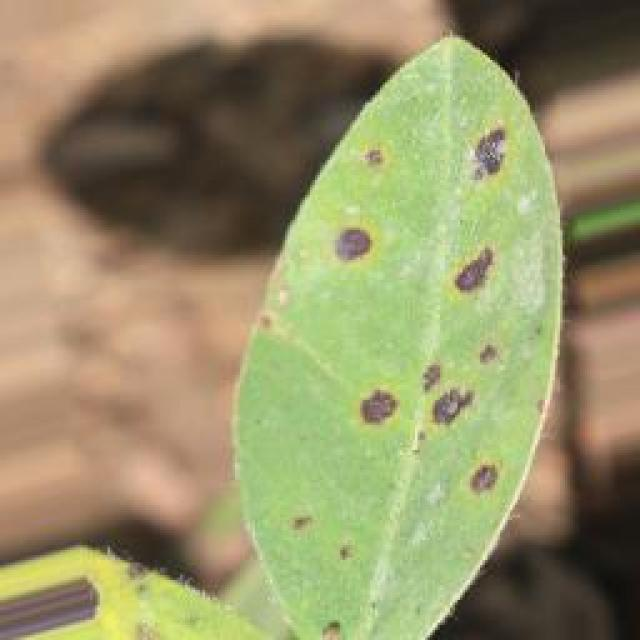Yellowish: (264, 60, 576, 640)
